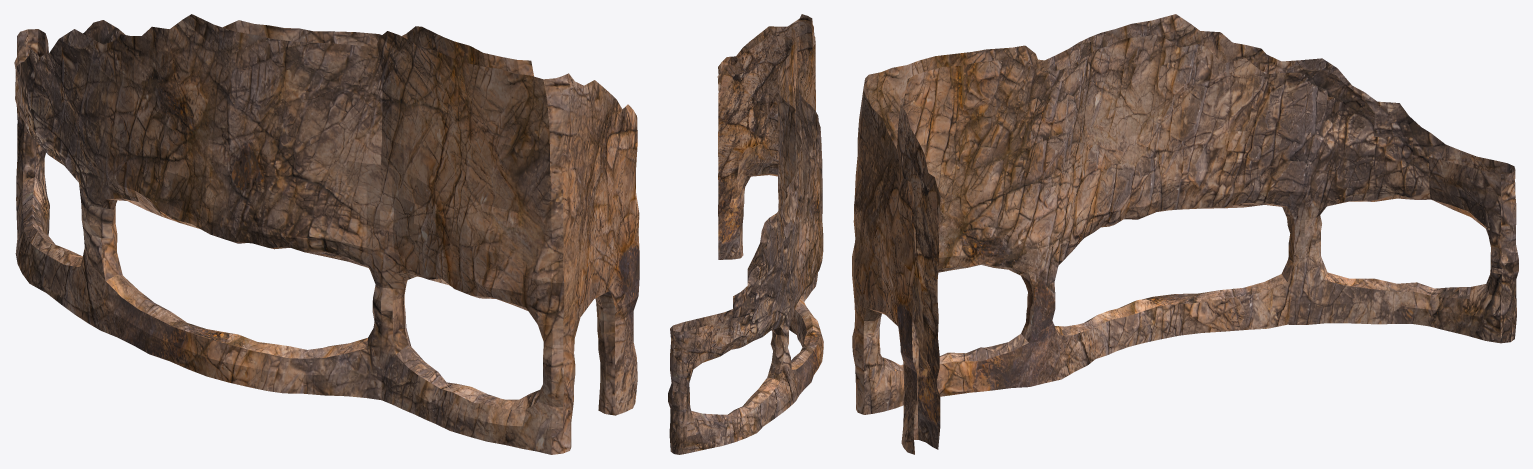
The model's file is ParedPiedra.fbx.
The picture shows the model from 3 angles, left to right: view 1: azimuth 30°, elevation 25°; view 2: azimuth 150°, elevation 25°; view 3: azimuth 270°, elevation 25°; orthographic projection. The views are drawn at different scales.
Parts seen in each view (by area): view 1: ParedReja.001; view 2: ParedReja.001; view 3: ParedReja.001.
Boxes of the visible parts, <box> form: ParedReja.001: <box>14,14,639,454</box>; ParedReja.001: <box>668,14,823,454</box>; ParedReja.001: <box>852,14,1518,454</box>.
Size of the model in its own units: 17.41 by 18.13 by 33.2.
